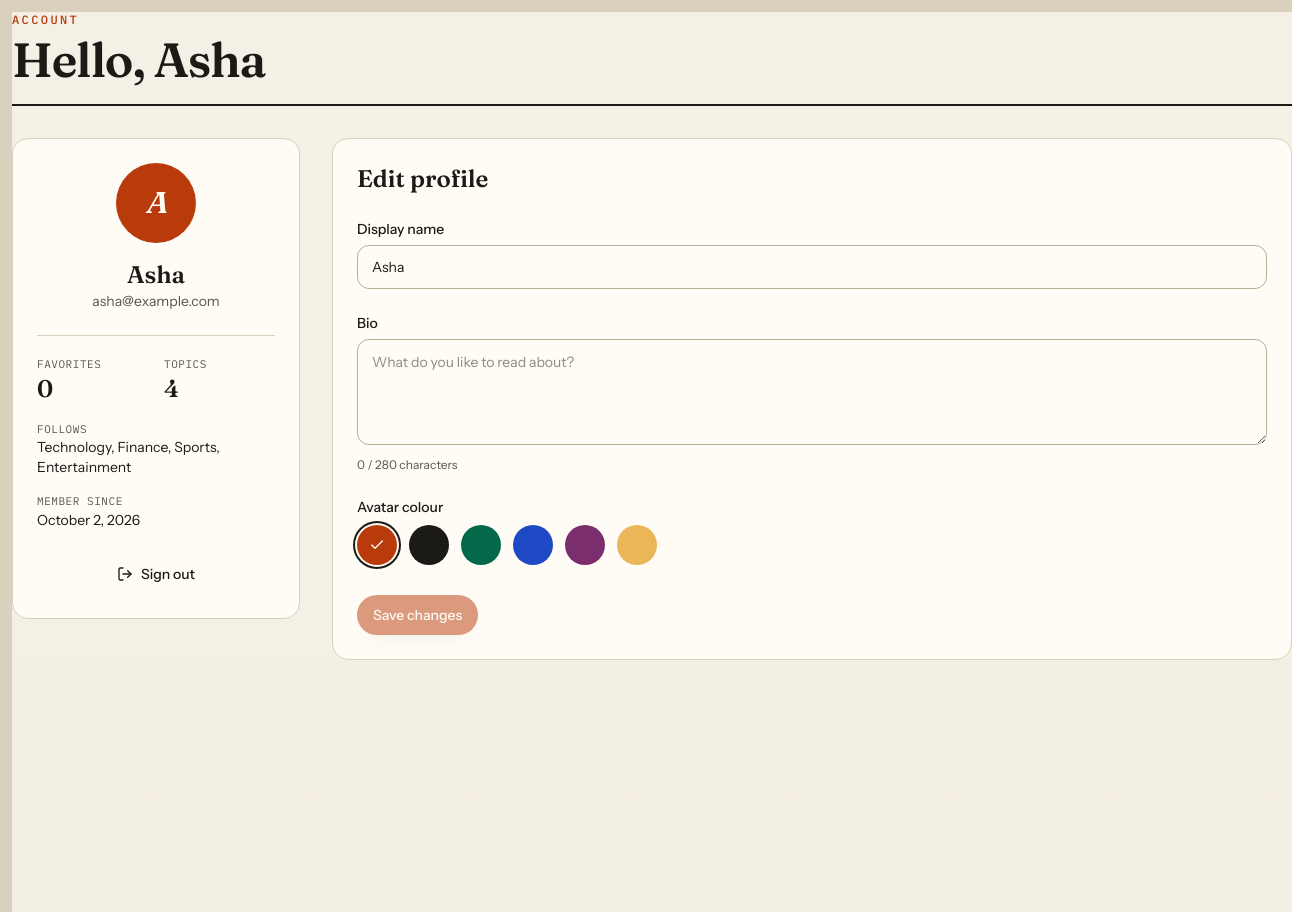
Test case: ProfileView (integration) › rejects an empty name
Clear the field labelled "Display name" at (812, 267), box [357, 245, 1267, 289]
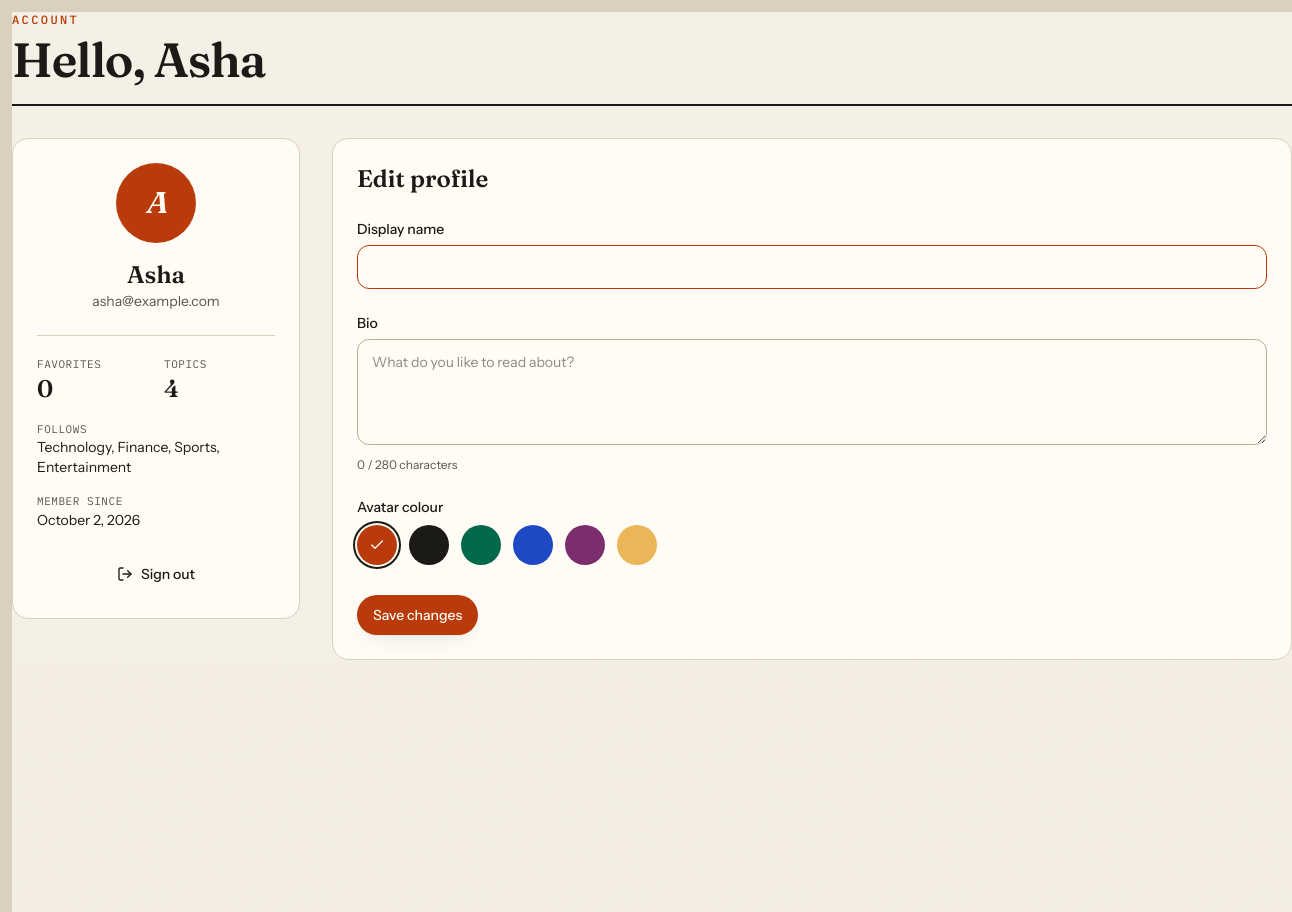
Click the button "Save changes" at (418, 615), box [357, 595, 478, 635]
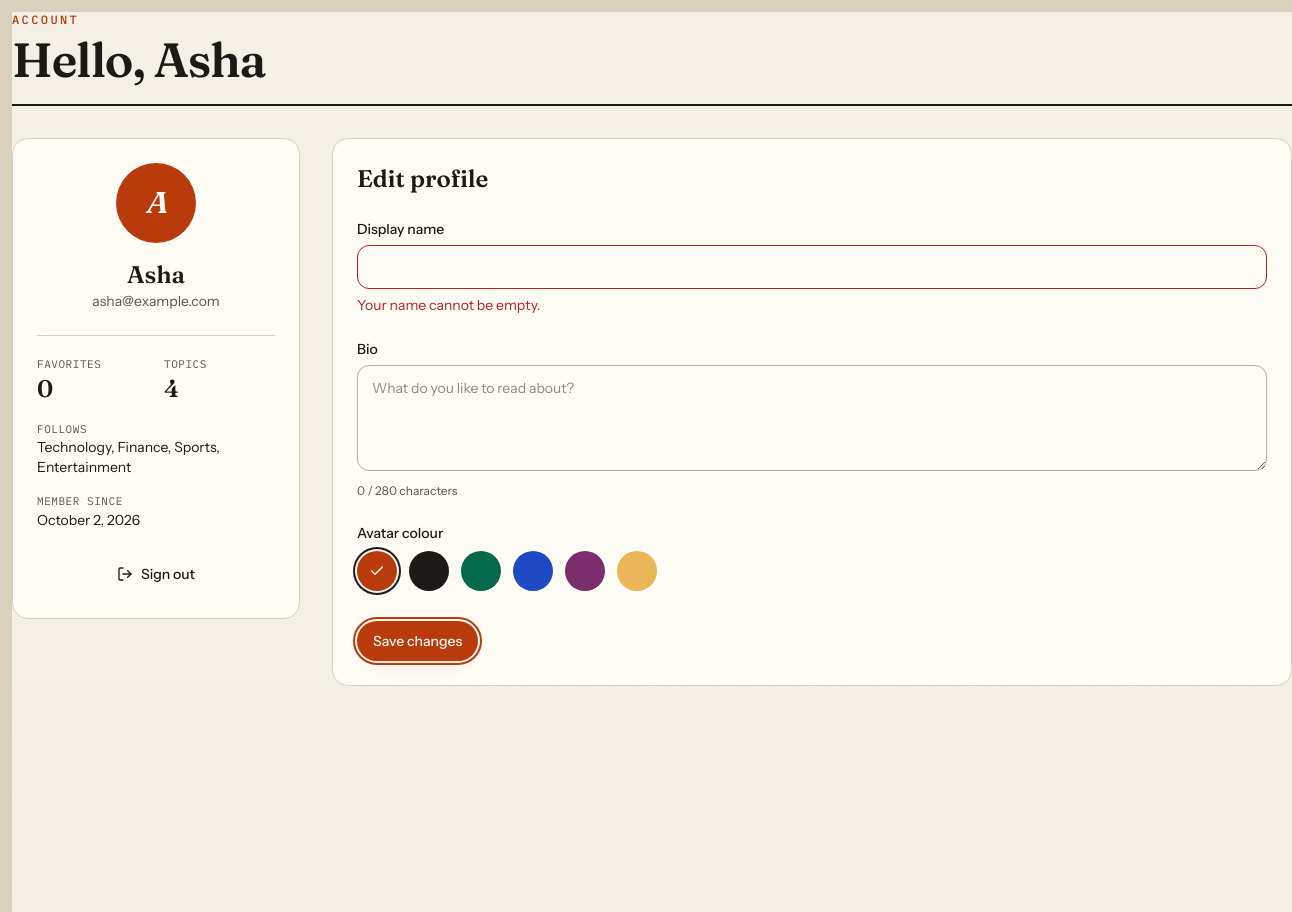
Expected: the text "Asha" is shown, [127, 260, 185, 289]
Now the text "Your name cannot be empty." is shown, box [357, 296, 540, 314]
